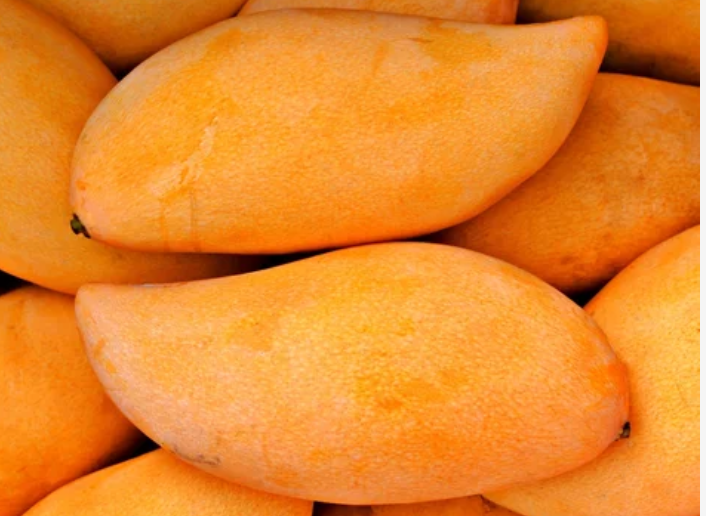mango: (75, 242, 630, 505), (70, 6, 599, 256)
